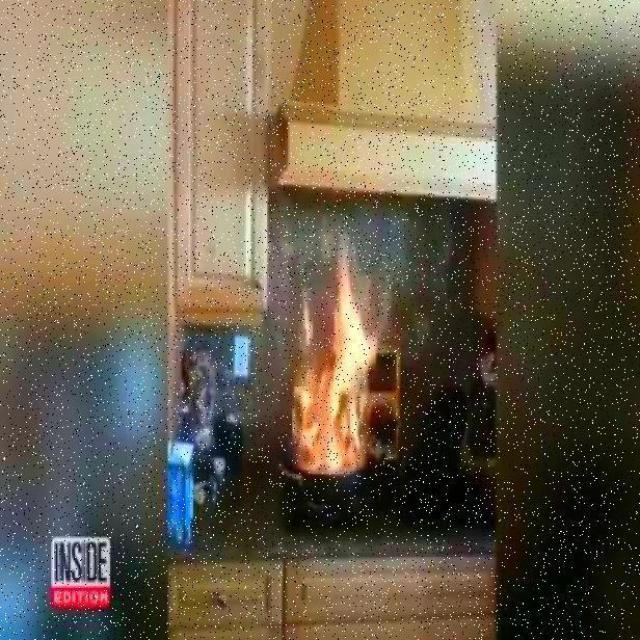smoke: (286, 242, 379, 470)
